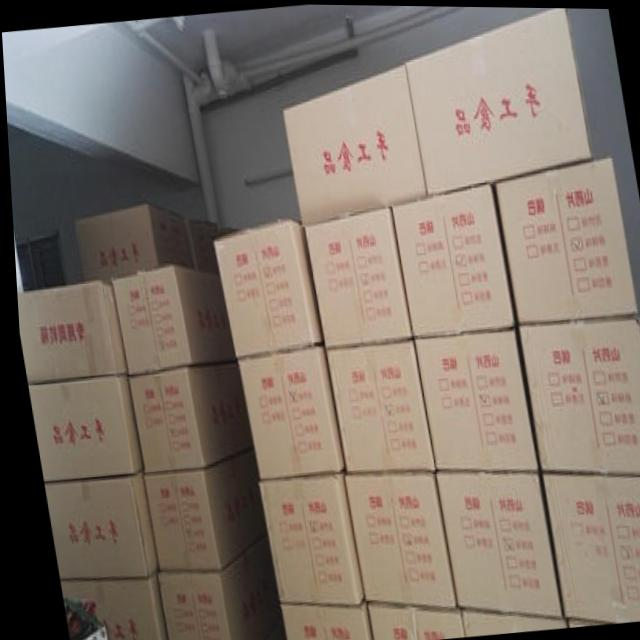box: (404, 6, 590, 193), (492, 152, 634, 320), (280, 65, 424, 225), (513, 313, 640, 472), (430, 466, 555, 613), (388, 184, 510, 334), (408, 325, 533, 469), (137, 443, 261, 569), (537, 470, 640, 620), (339, 471, 451, 608), (211, 219, 321, 356), (302, 203, 405, 346), (233, 343, 338, 480), (321, 337, 427, 470), (253, 471, 358, 605), (124, 360, 246, 473), (151, 528, 274, 640), (109, 264, 230, 375), (38, 463, 150, 575), (24, 373, 138, 479), (14, 279, 124, 385), (70, 202, 190, 280), (55, 569, 159, 640), (273, 599, 363, 640), (358, 603, 456, 640), (453, 610, 558, 633), (185, 221, 218, 274), (259, 605, 277, 640), (557, 616, 597, 624)
